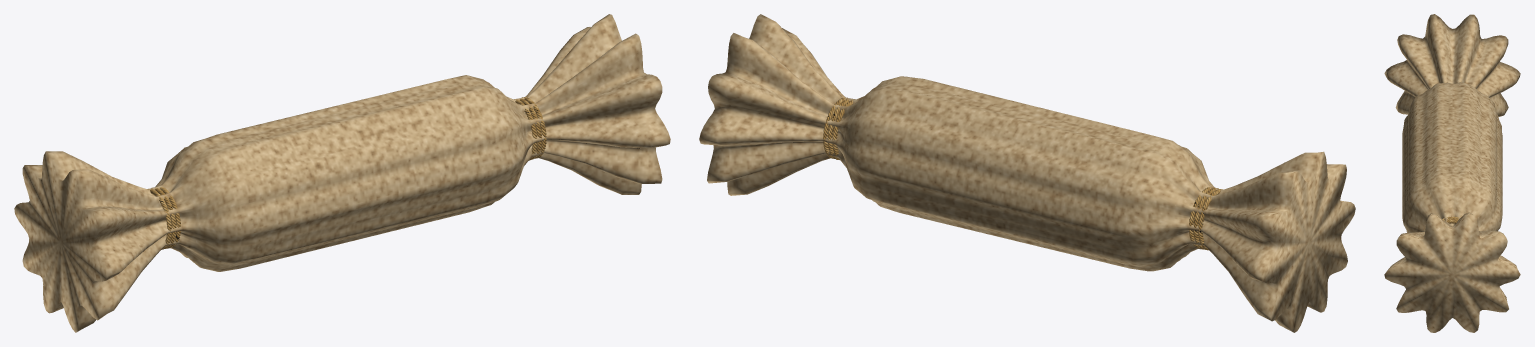
The model's file is wrapped-roll.fbx.
The picture shows the model from 3 angles, left to right: view 1: azimuth 30°, elevation 25°; view 2: azimuth 150°, elevation 25°; view 3: azimuth 270°, elevation 25°; orthographic projection. The views are drawn at different scales.
Parts seen in each view (by area): view 1: wrapped-roll; view 2: wrapped-roll; view 3: wrapped-roll.
Boxes of the visible parts, box(x1,y1,x2,y2) form: wrapped-roll: box(14, 14, 670, 332); wrapped-roll: box(699, 14, 1355, 332); wrapped-roll: box(1384, 14, 1520, 332).
Bounding box in the file's own units: 49 × 13.39 × 14.04.
2 materials, 2 textured.
